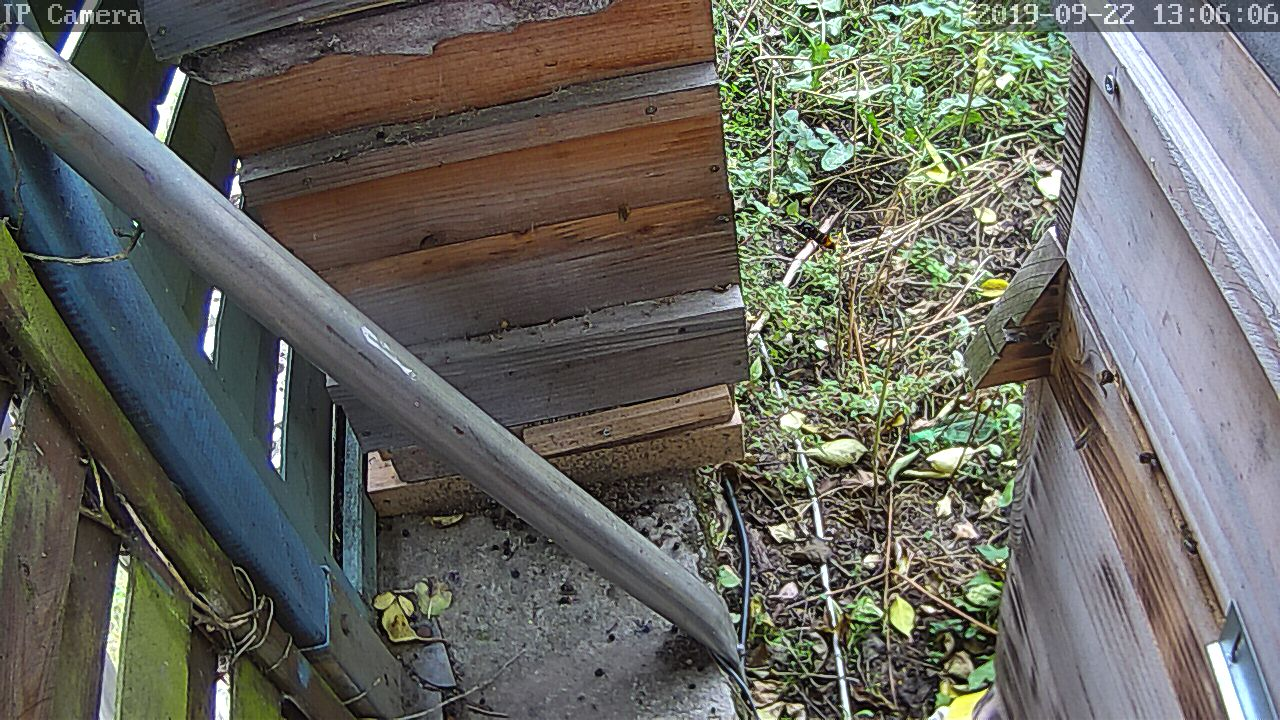bee: (1131, 444, 1165, 479), (1091, 365, 1121, 395)
hornet: (790, 223, 841, 257)
